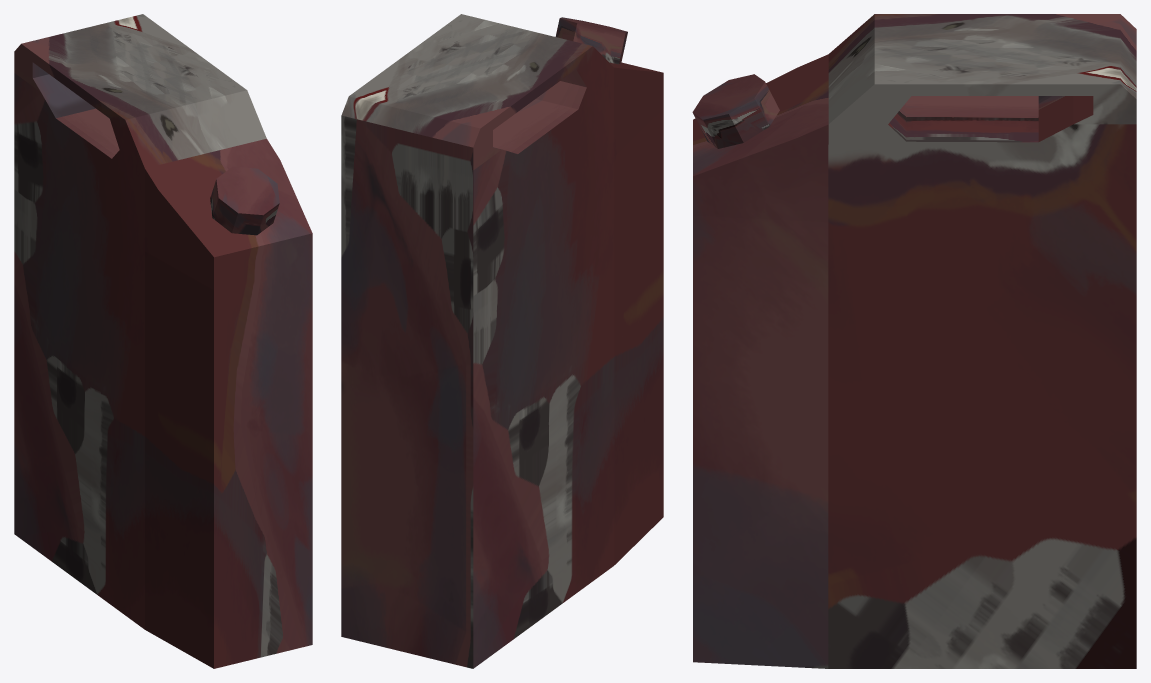
Rendered from gasoline canister.fbx.
The picture shows the model from 3 angles, left to right: view 1: azimuth 30°, elevation 25°; view 2: azimuth 150°, elevation 25°; view 3: azimuth 270°, elevation 25°; orthographic projection. The views are drawn at different scales.
Parts seen in each view (by area): view 1: gasoline canister; view 2: gasoline canister; view 3: gasoline canister.
Boxes of the visible parts, <box> form: gasoline canister: <box>14,14,312,668</box>; gasoline canister: <box>341,14,663,668</box>; gasoline canister: <box>692,14,1136,668</box>.
Bounding box in the file's own units: 59.83 × 232 × 160.
